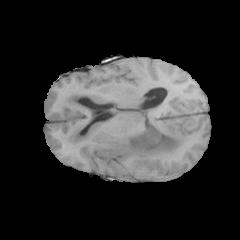glioma: (60, 90, 188, 164)
